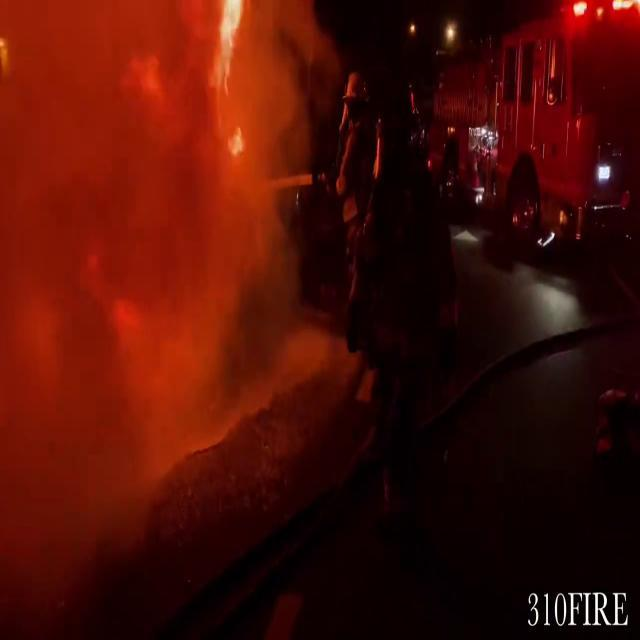Smoke: (0, 0, 341, 540)
